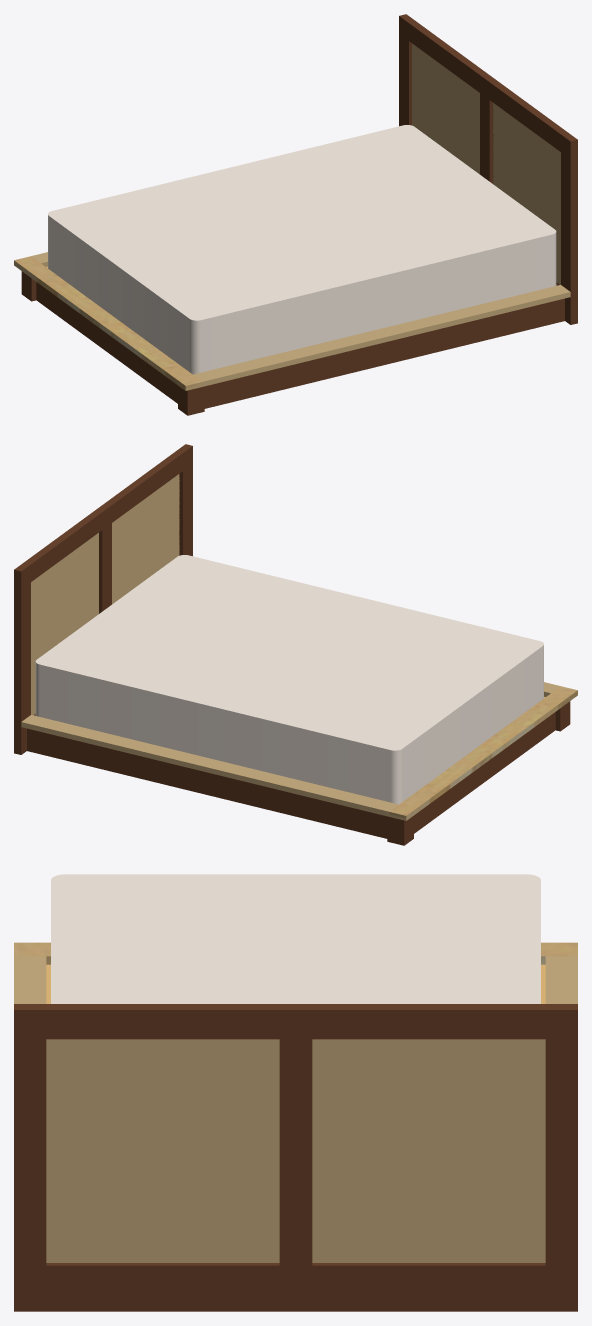
Rendered from platform_bed-full.obj.
3 renders of one model, top to bottom at view 1: azimuth 30°, elevation 25°; view 2: azimuth 150°, elevation 25°; view 3: azimuth 270°, elevation 25°, orthographic. The views are drawn at different scales.
Parts seen in each view (by area): view 1: Mesh6 MATRESS1 Group1 Model, Mesh4 RIGHT_SIDE_BOARD1 Group1 Model, Mesh22 HEADBOARD_RIGHT_SIDE_PANEL1 Group1 Model, Mesh16 SIDE_R_TOP_RIAL1 Group1 Model, Mesh23 HEADBOARD_LEFT_SIDE_PANEL1 Group1 Model, Mesh14 FOOT_TOP_SIDE_BOARD1 Group1 Model, Mesh21 HEADBOARD_TOP_RAIL1 Group1 Model, Mesh3 FOOT_BOARD1 Group1 Model, Mesh18 HEADBOARD_RIGHT_SIDE_POST1 Group1 Model, Mesh19 HEADBOARD_LEFT_SIDE_POST1 Group1 Model, Mesh20 HEADBOARD_CENTER_POST1 Group1 Model, Mesh2 CORNER_POST2 Group1 Model; view 2: Mesh6 MATRESS1 Group1 Model, Mesh5 LEFT_SIDE_BOARD1 Group1 Model, Mesh23 HEADBOARD_LEFT_SIDE_PANEL1 Group1 Model, Mesh15 SIDE_L_TOP_RIAL1 Group1 Model, Mesh22 HEADBOARD_RIGHT_SIDE_PANEL1 Group1 Model, Mesh14 FOOT_TOP_SIDE_BOARD1 Group1 Model, Mesh21 HEADBOARD_TOP_RAIL1 Group1 Model, Mesh3 FOOT_BOARD1 Group1 Model, Mesh19 HEADBOARD_LEFT_SIDE_POST1 Group1 Model, Mesh18 HEADBOARD_RIGHT_SIDE_POST1 Group1 Model, Mesh20 HEADBOARD_CENTER_POST1 Group1 Model, Mesh1 CORNER_POST1 Group1 Model; view 3: Mesh6 MATRESS1 Group1 Model, Mesh22 HEADBOARD_RIGHT_SIDE_PANEL1 Group1 Model, Mesh23 HEADBOARD_LEFT_SIDE_PANEL1 Group1 Model, Mesh17 HEADBOARD_FOOT1 Group1 Model, Mesh21 HEADBOARD_TOP_RAIL1 Group1 Model, Mesh18 HEADBOARD_RIGHT_SIDE_POST1 Group1 Model, Mesh19 HEADBOARD_LEFT_SIDE_POST1 Group1 Model, Mesh20 HEADBOARD_CENTER_POST1 Group1 Model, Mesh15 SIDE_L_TOP_RIAL1 Group1 Model, Mesh16 SIDE_R_TOP_RIAL1 Group1 Model, Mesh14 FOOT_TOP_SIDE_BOARD1 Group1 Model.
Boxes of the visible parts, <box> form: Mesh6 MATRESS1 Group1 Model: <box>48,125,556,374</box>; Mesh4 RIGHT_SIDE_BOARD1 Group1 Model: <box>204,298,564,408</box>; Mesh22 HEADBOARD_RIGHT_SIDE_PANEL1 Group1 Model: <box>493,103,560,284</box>; Mesh16 SIDE_R_TOP_RIAL1 Group1 Model: <box>185,285,570,390</box>; Mesh23 HEADBOARD_LEFT_SIDE_PANEL1 Group1 Model: <box>412,43,479,174</box>; Mesh14 FOOT_TOP_SIDE_BOARD1 Group1 Model: <box>14,256,202,390</box>; Mesh21 HEADBOARD_TOP_RAIL1 Group1 Model: <box>409,21,567,151</box>; Mesh3 FOOT_BOARD1 Group1 Model: <box>36,282,177,403</box>; Mesh18 HEADBOARD_RIGHT_SIDE_POST1 Group1 Model: <box>561,132,577,296</box>; Mesh19 HEADBOARD_LEFT_SIDE_POST1 Group1 Model: <box>399,14,415,126</box>; Mesh20 HEADBOARD_CENTER_POST1 Group1 Model: <box>480,93,493,183</box>; Mesh2 CORNER_POST2 Group1 Model: <box>178,386,204,415</box>; Mesh6 MATRESS1 Group1 Model: <box>35,555,543,804</box>; Mesh5 LEFT_SIDE_BOARD1 Group1 Model: <box>27,728,387,838</box>; Mesh23 HEADBOARD_LEFT_SIDE_PANEL1 Group1 Model: <box>31,533,98,715</box>; Mesh15 SIDE_L_TOP_RIAL1 Group1 Model: <box>21,715,406,820</box>; Mesh22 HEADBOARD_RIGHT_SIDE_PANEL1 Group1 Model: <box>112,474,179,604</box>; Mesh14 FOOT_TOP_SIDE_BOARD1 Group1 Model: <box>389,686,577,820</box>; Mesh21 HEADBOARD_TOP_RAIL1 Group1 Model: <box>24,451,182,581</box>; Mesh3 FOOT_BOARD1 Group1 Model: <box>414,712,555,833</box>; Mesh19 HEADBOARD_LEFT_SIDE_POST1 Group1 Model: <box>14,562,30,726</box>; Mesh18 HEADBOARD_RIGHT_SIDE_POST1 Group1 Model: <box>176,444,192,556</box>; Mesh20 HEADBOARD_CENTER_POST1 Group1 Model: <box>99,523,111,613</box>; Mesh1 CORNER_POST1 Group1 Model: <box>387,816,413,845</box>; Mesh6 MATRESS1 Group1 Model: <box>51,874,540,1003</box>; Mesh22 HEADBOARD_RIGHT_SIDE_PANEL1 Group1 Model: <box>46,1039,279,1262</box>; Mesh23 HEADBOARD_LEFT_SIDE_PANEL1 Group1 Model: <box>312,1039,545,1262</box>; Mesh17 HEADBOARD_FOOT1 Group1 Model: <box>14,1263,577,1311</box>; Mesh21 HEADBOARD_TOP_RAIL1 Group1 Model: <box>46,1004,545,1039</box>; Mesh18 HEADBOARD_RIGHT_SIDE_POST1 Group1 Model: <box>14,1004,46,1265</box>; Mesh19 HEADBOARD_LEFT_SIDE_POST1 Group1 Model: <box>545,1004,577,1265</box>; Mesh20 HEADBOARD_CENTER_POST1 Group1 Model: <box>279,1039,312,1265</box>; Mesh15 SIDE_L_TOP_RIAL1 Group1 Model: <box>545,956,577,1003</box>; Mesh16 SIDE_R_TOP_RIAL1 Group1 Model: <box>14,956,46,1003</box>; Mesh14 FOOT_TOP_SIDE_BOARD1 Group1 Model: <box>14,942,577,964</box>.
Size of the model in its own units: 80.5 by 36 by 61.
